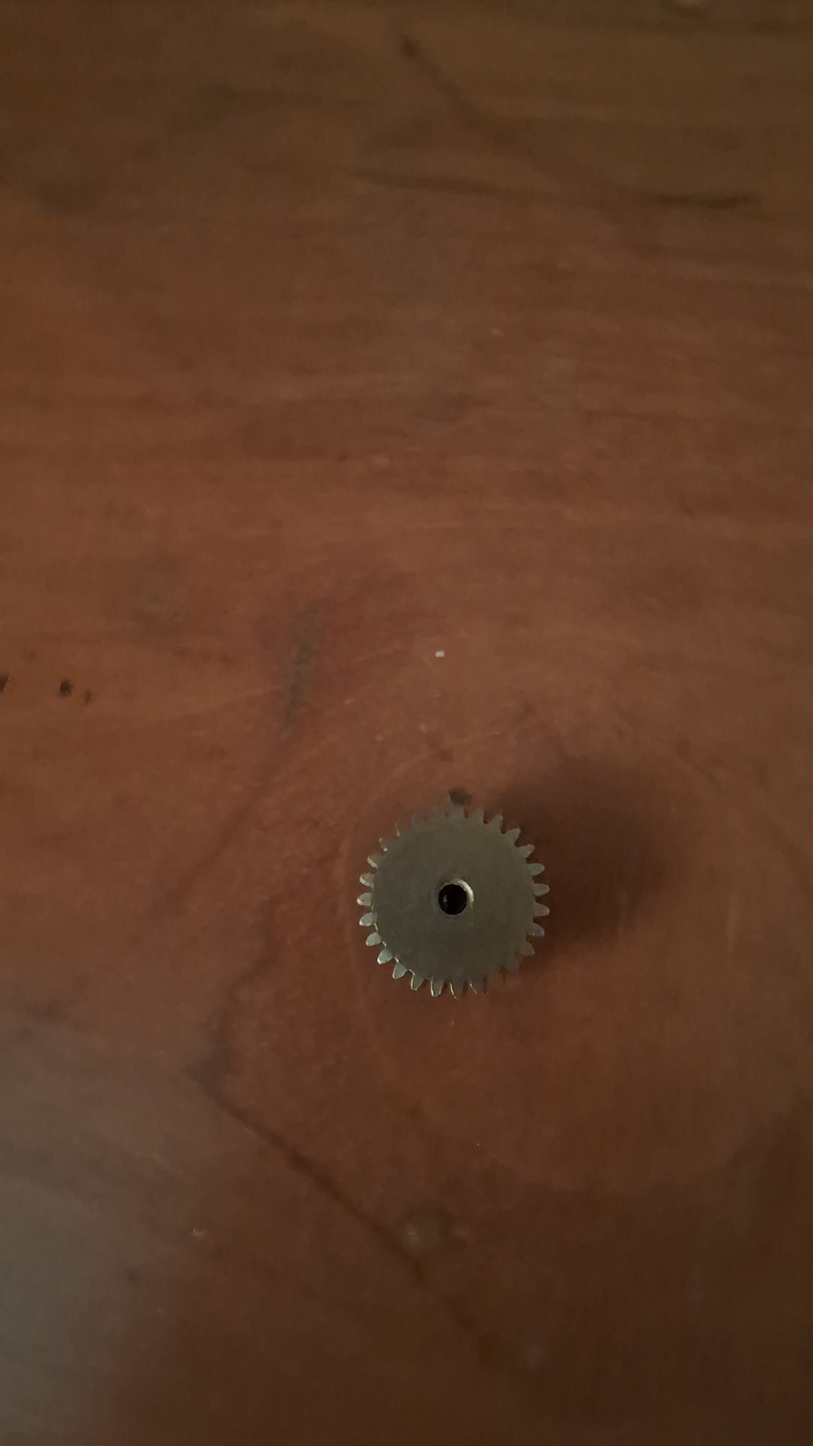spur gear: (358, 799, 548, 996)
